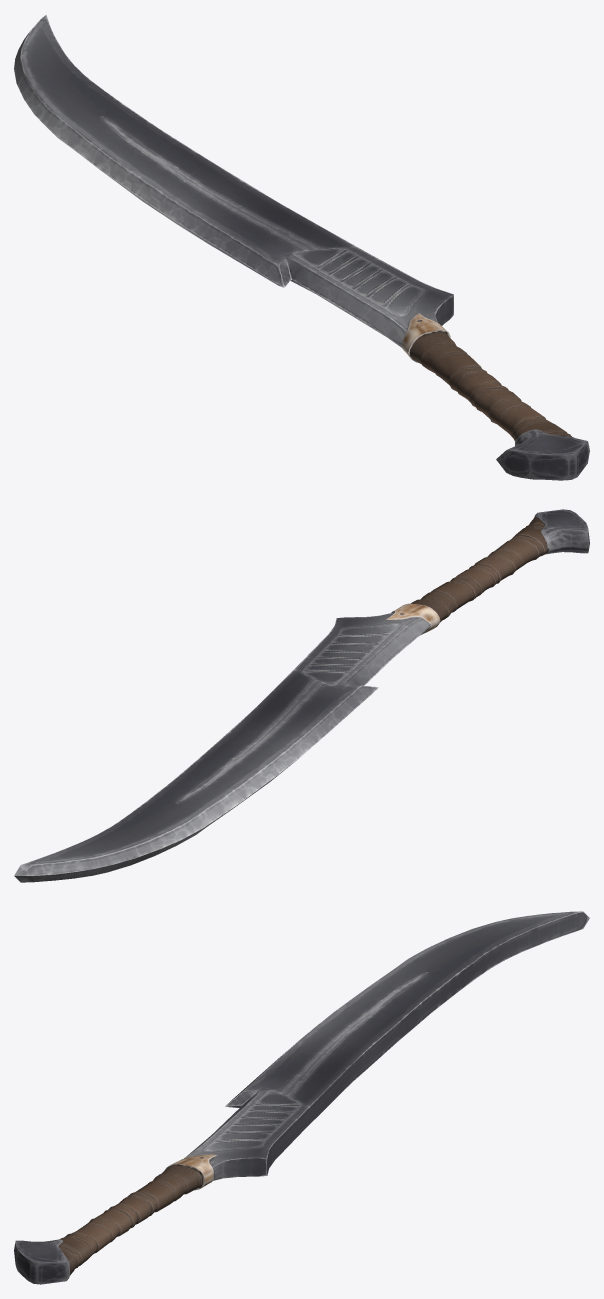
The model's file is Sword.FBX.
3 views of the same model, one above another, from view 1: azimuth 30°, elevation 25°; view 2: azimuth 150°, elevation 25°; view 3: azimuth 330°, elevation 25° (orthographic). The views are drawn at different scales.
Visible parts, largest first — view 1: Sword; view 2: Sword; view 3: Sword.
Part boxes in pixels (bbox=[...]): Sword: bbox=[14, 14, 589, 480]; Sword: bbox=[14, 509, 589, 882]; Sword: bbox=[14, 911, 589, 1284].
Size of the model in its own units: 0.588 by 0.1268 by 4.73.
